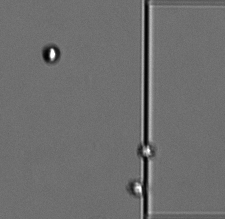Living Cell: (41, 41, 62, 66), (137, 140, 157, 161), (128, 178, 147, 198)
